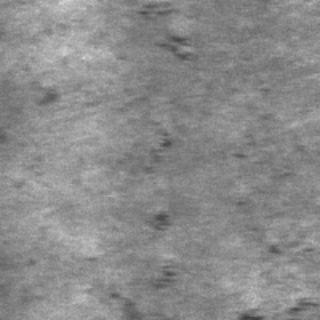rolled pit: (114, 200, 186, 318), (228, 232, 316, 318), (112, 96, 174, 174), (134, 0, 193, 62)
